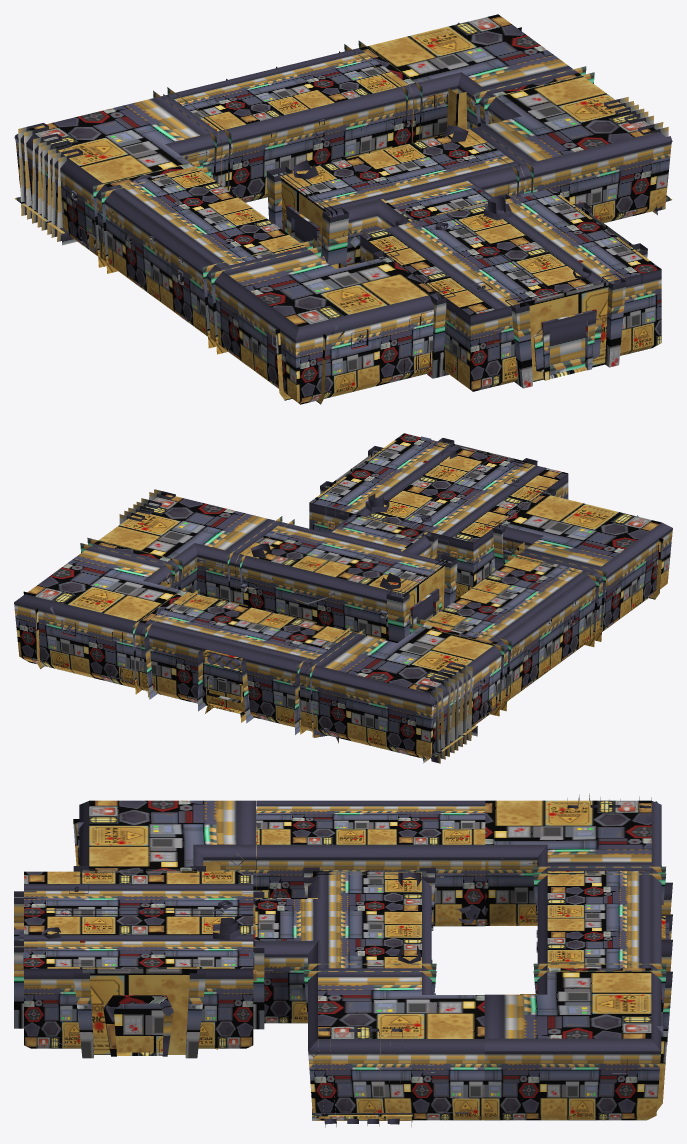
File: Combined_Mesh_root_scene__19_0bed480f__zombies2_diffuse_04_b80f3c78_c1f257.obj
The picture shows the model from 3 angles, top to bottom: view 1: azimuth 30°, elevation 25°; view 2: azimuth 150°, elevation 25°; view 3: azimuth 270°, elevation 25°; orthographic projection. The views are drawn at different scales.
Bounding box in the file's own units: 51.83 × 9.64 × 57.53.
123 materials, 123 textured.
